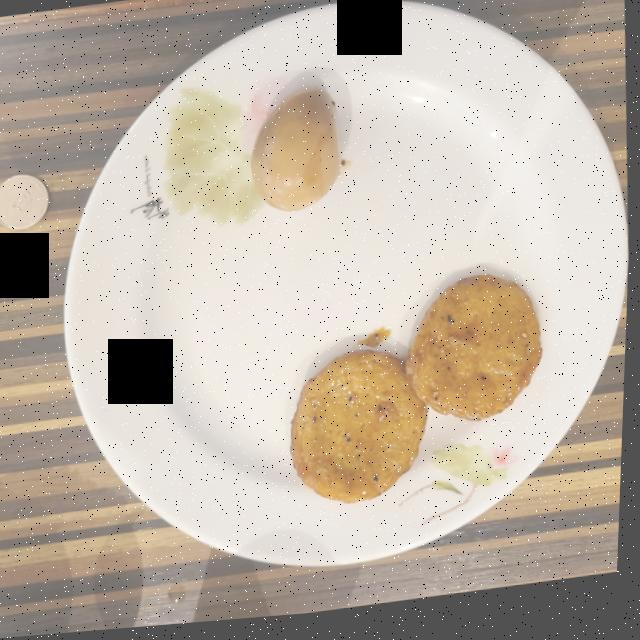coin: (0, 174, 50, 229)
fish cake: (294, 282, 545, 509)
soy egg: (252, 92, 342, 216)
